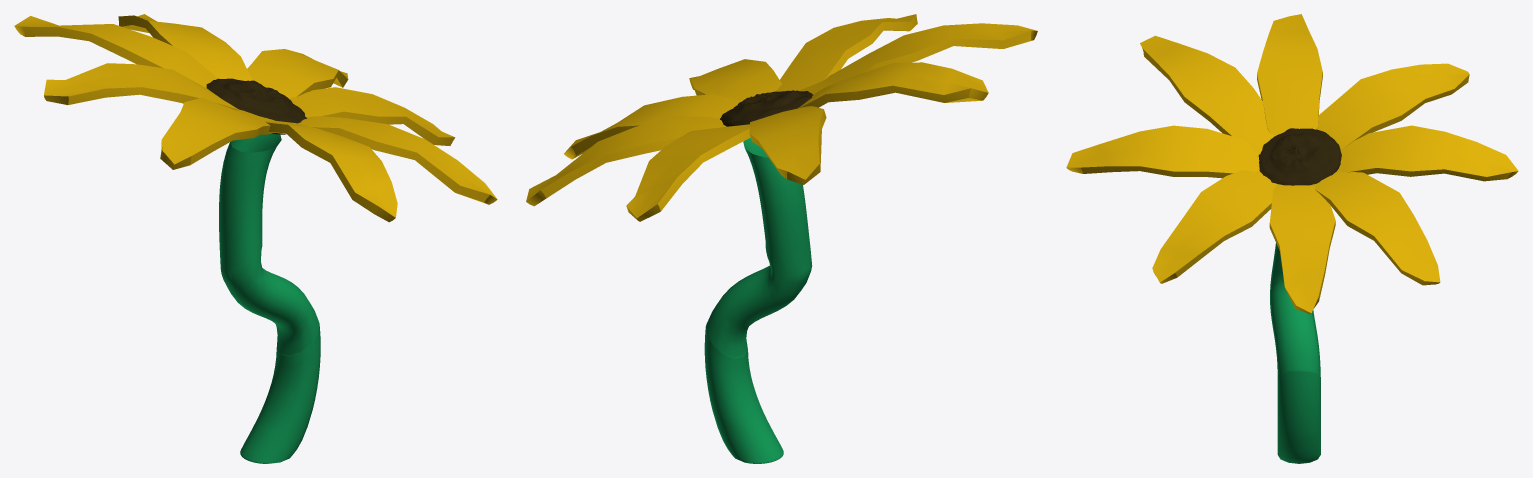
File: Sunflower.fbx
3 renders of one model, left to right at view 1: azimuth 30°, elevation 25°; view 2: azimuth 150°, elevation 25°; view 3: azimuth 270°, elevation 25°, orthographic. The views are drawn at different scales.
Parts seen in each view (by area): view 1: extrudedSurface1, polySurface30, polySurface41, polySurface31, polySurface38, polySurface40, polySurface35, polySurface36, polySurface33, polySurface42; view 2: extrudedSurface1, polySurface30, polySurface38, polySurface36, polySurface33, polySurface40, polySurface41, polySurface35, polySurface31, polySurface42; view 3: extrudedSurface1, polySurface41, polySurface36, polySurface38, polySurface33, polySurface40, polySurface31, polySurface30, polySurface35, polySurface42.
Part boxes in pixels (x1,y1,x2,y2): extrudedSurface1: (219,133,320,463); polySurface30: (44,63,238,110); polySurface41: (265,121,397,222); polySurface31: (298,116,497,204); polySurface38: (160,97,275,169); polySurface40: (14,16,217,87); polySurface35: (290,87,455,145); polySurface36: (118,14,252,80); polySurface33: (247,49,348,99); polySurface42: (206,78,306,134); extrudedSurface1: (704,138,812,463); polySurface30: (798,62,988,108); polySurface38: (798,23,1037,94); polySurface36: (626,124,750,221); polySurface33: (526,116,726,206); polySurface40: (749,106,826,184); polySurface41: (775,14,917,91); polySurface35: (564,94,740,159); polySurface31: (689,59,781,101); polySurface42: (720,90,812,126); extrudedSurface1: (1270,243,1320,463); polySurface41: (1066,125,1260,178); polySurface36: (1337,125,1518,181); polySurface38: (1140,35,1274,155); polySurface33: (1311,171,1440,285); polySurface40: (1317,63,1469,148); polySurface31: (1152,170,1276,283); polySurface30: (1257,14,1322,135); polySurface35: (1269,184,1335,313); polySurface42: (1258,128,1341,185).
Size of the model in its own units: 9.1 by 8.84 by 10.28.
